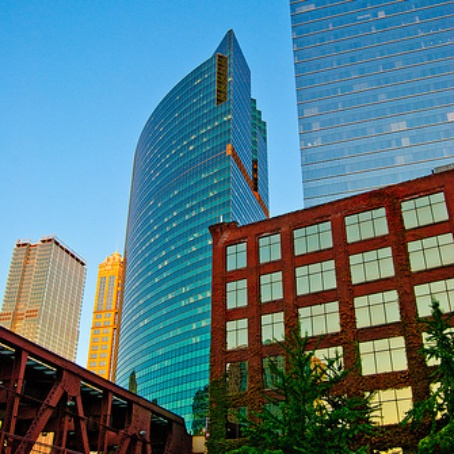building: (209, 199, 454, 454), (109, 36, 267, 422), (299, 1, 454, 201), (1, 226, 86, 357)
sky: (1, 1, 302, 197)
